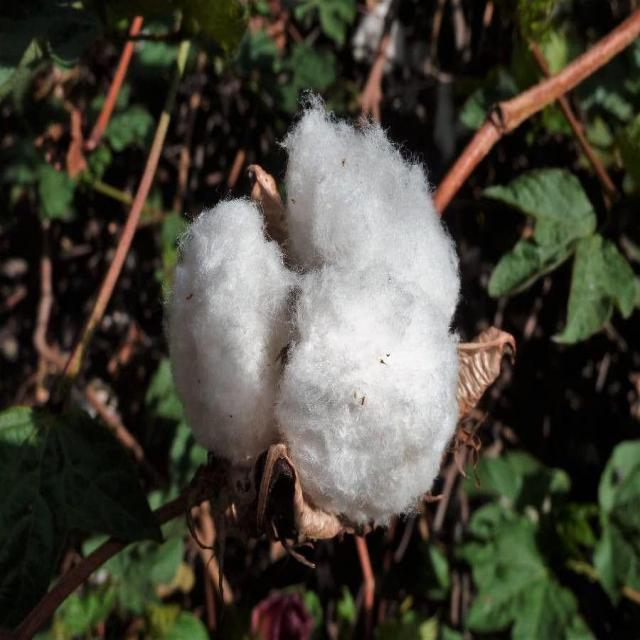Early_blight: (166, 114, 474, 540)
